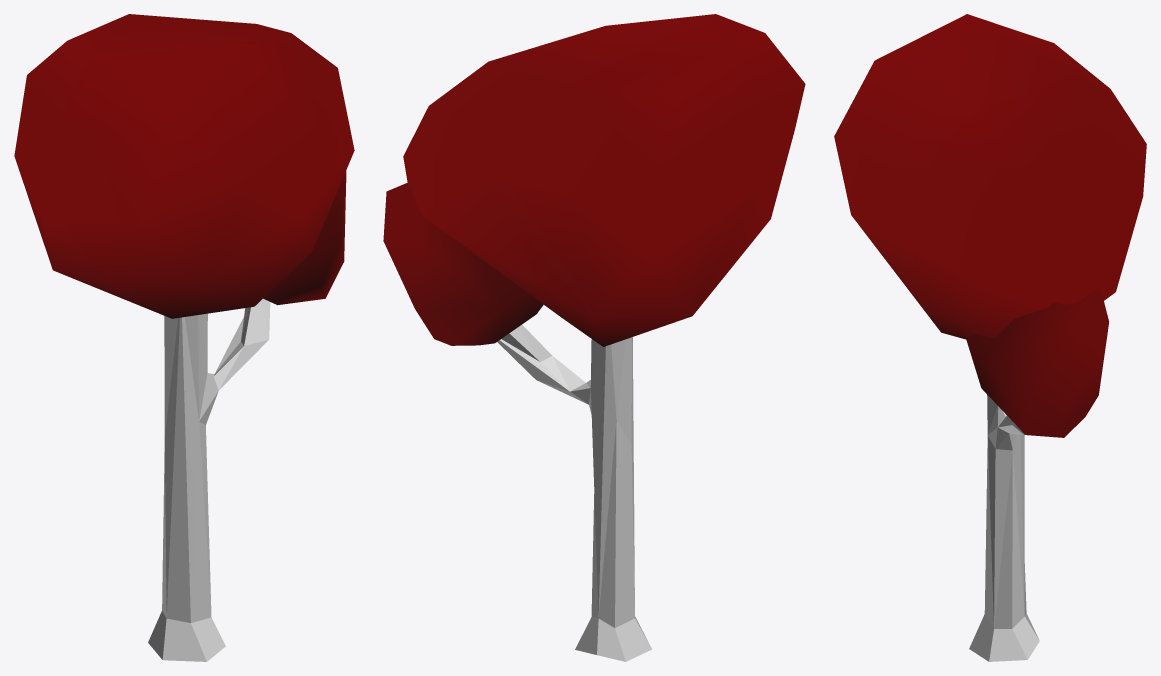
The model's file is BallTree01.fbx.
3 renders of one model, left to right at view 1: azimuth 30°, elevation 25°; view 2: azimuth 150°, elevation 25°; view 3: azimuth 270°, elevation 25°, orthographic. The views are drawn at different scales.
Visible parts, largest first — view 1: BallTree01_Leafs01, BallTree01_Trunk, BallTree01_Leafs02; view 2: BallTree01_Leafs01, BallTree01_Trunk, BallTree01_Leafs02; view 3: BallTree01_Leafs01, BallTree01_Leafs02, BallTree01_Trunk.
Part boxes in pixels (x1,y1,x2,y2): BallTree01_Leafs01: [14, 14, 354, 318]; BallTree01_Trunk: [148, 298, 270, 661]; BallTree01_Leafs02: [263, 171, 346, 305]; BallTree01_Leafs01: [403, 14, 805, 346]; BallTree01_Trunk: [497, 325, 651, 661]; BallTree01_Leafs02: [383, 183, 543, 345]; BallTree01_Leafs01: [834, 14, 1146, 339]; BallTree01_Leafs02: [966, 289, 1108, 437]; BallTree01_Trunk: [969, 394, 1039, 661].
Bounding box in the file's own units: 133 × 225 × 110.
